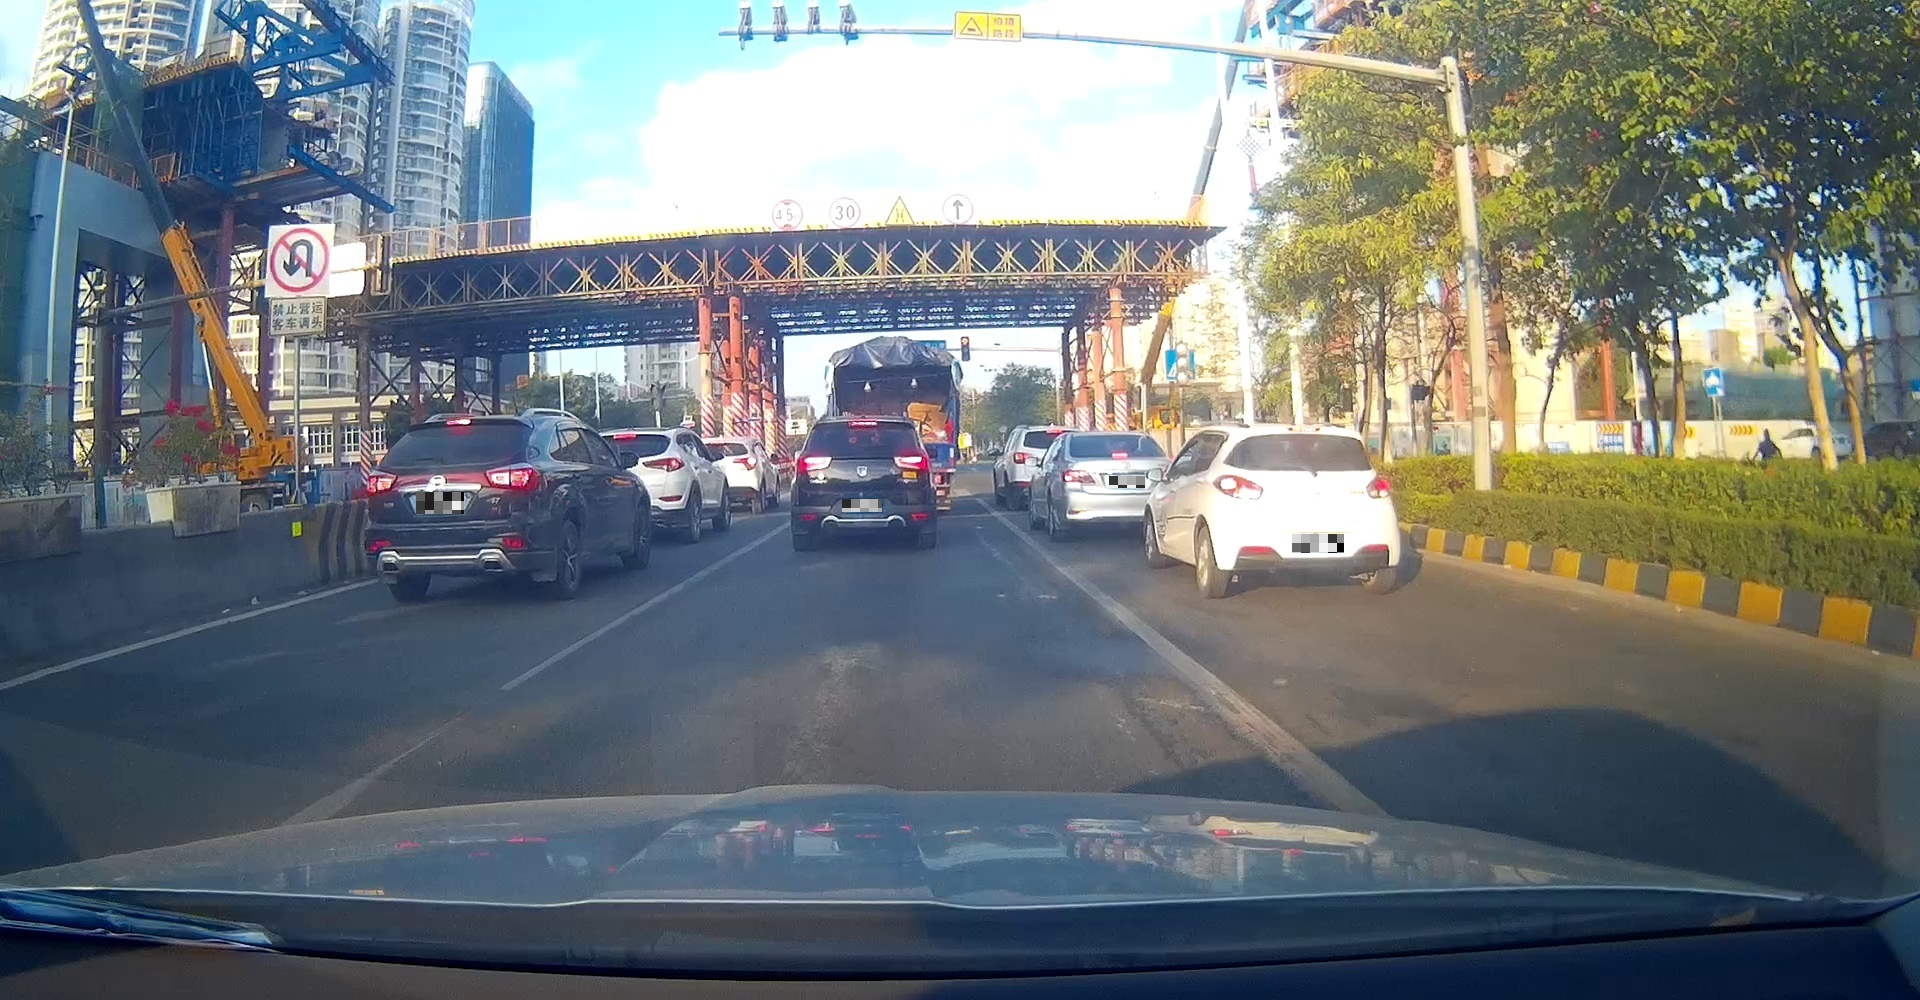L_light: (1213, 472, 1263, 501), (366, 470, 397, 496), (795, 454, 833, 473)
R_light: (485, 463, 540, 490), (1368, 475, 1390, 499), (893, 456, 930, 470)
T_light: (850, 420, 877, 426), (1288, 426, 1321, 431), (447, 419, 471, 425)
day-brake: (362, 414, 543, 602), (1208, 423, 1401, 596), (789, 416, 938, 549)
plate_1: (417, 492, 463, 514)
plate_2: (842, 499, 883, 511)
plate_3: (1109, 476, 1145, 489)
plate_4: (1291, 534, 1343, 553)
